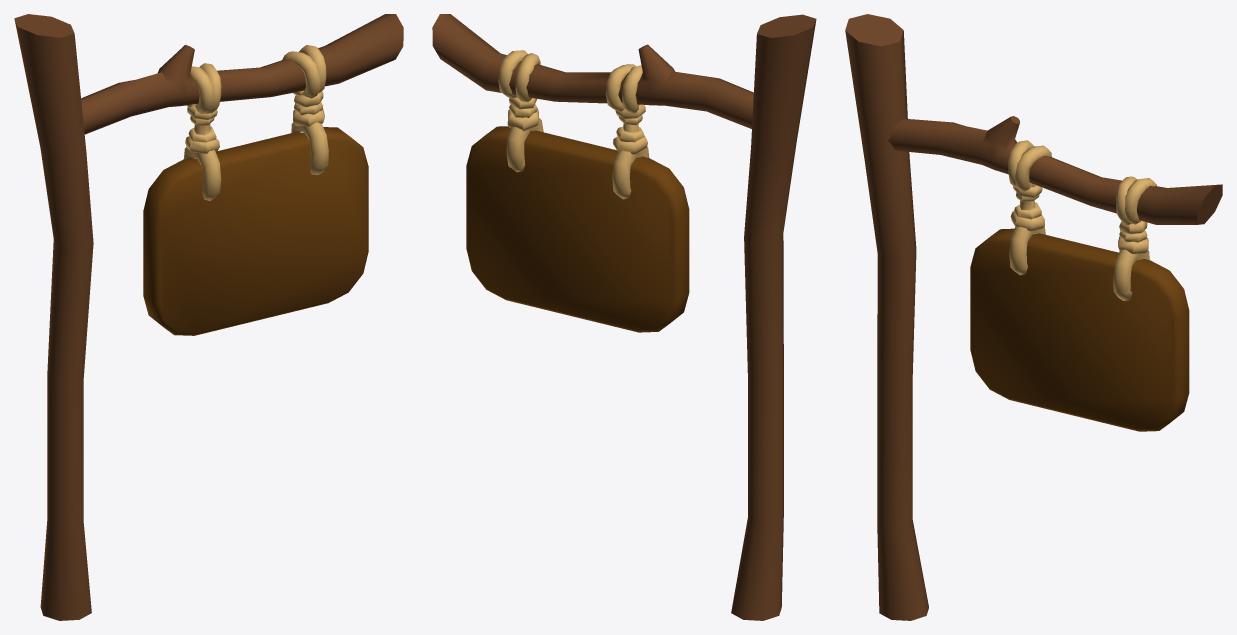
Rendered from Sign-col.gltf.
3 views of the same model, side by side, from view 1: azimuth 30°, elevation 25°; view 2: azimuth 150°, elevation 25°; view 3: azimuth 330°, elevation 25° (orthographic). The views are drawn at different scales.
Parts seen in each view (by area): view 1: Sign-col; view 2: Sign-col; view 3: Sign-col.
Part boxes in pixels (x1,y1,x2,y2): Sign-col: [14, 14, 403, 620]; Sign-col: [432, 14, 816, 620]; Sign-col: [845, 14, 1222, 620].
Size of the model in its own units: 2.81 by 4.27 by 0.4379.
